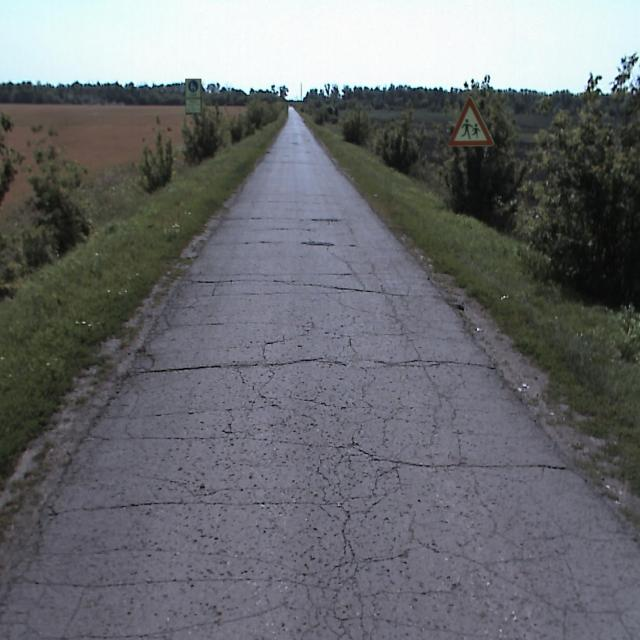road: (0, 109, 639, 639)
